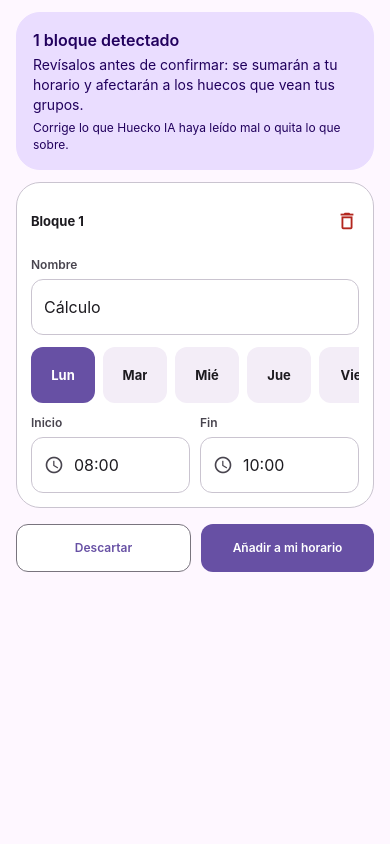
Test: si el servidor rechaza el guardado, muestra el error y se queda
Click the button "Añadir a mi horario". click: (288,548)
box: 201,524 -> 374,572
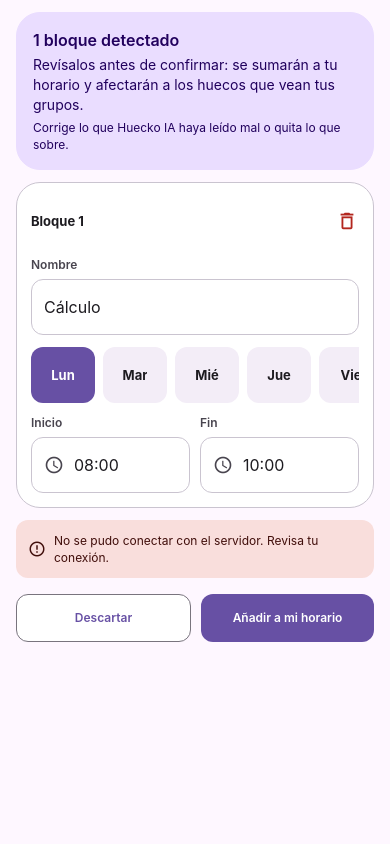
Expected: the text "No se pudo conectar con el servidor. Revisa tu conexión." is shown, 54,532 -> 362,566
